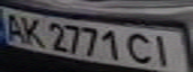1: (100, 27, 124, 61)
2: (42, 20, 69, 53)
7: (78, 25, 103, 57), (60, 22, 81, 55)
A: (0, 10, 27, 43)
C: (124, 30, 157, 65)
I: (148, 31, 184, 69)
K: (18, 15, 48, 47)
